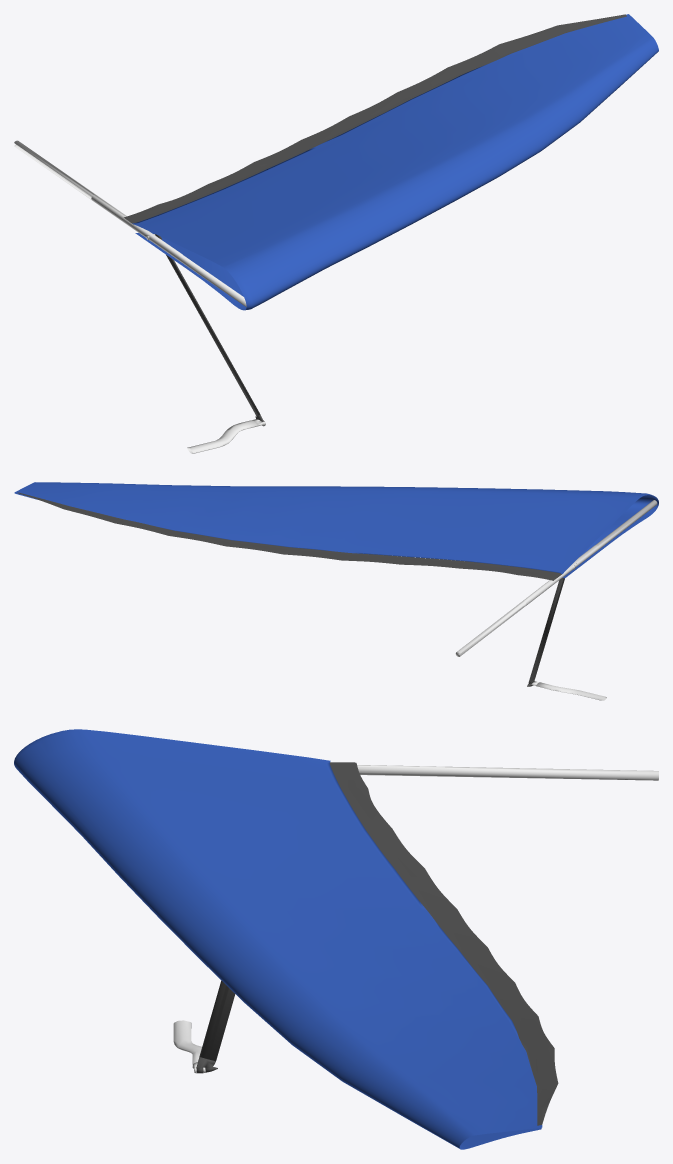
The model's file is glideSeparetedLeft.fbx.
3 views of the same model, one above another, from view 1: azimuth 30°, elevation 25°; view 2: azimuth 150°, elevation 25°; view 3: azimuth 270°, elevation 25° (orthographic). The views are drawn at different scales.
Visible parts, largest first — view 1: Left; view 2: Left; view 3: Left.
Boxes of the visible parts, x1,y1,x2,y2 form: Left: (14, 14, 658, 453); Left: (14, 482, 658, 700); Left: (14, 729, 658, 1149).
Size of the model in its own units: 487 by 173 by 344.
